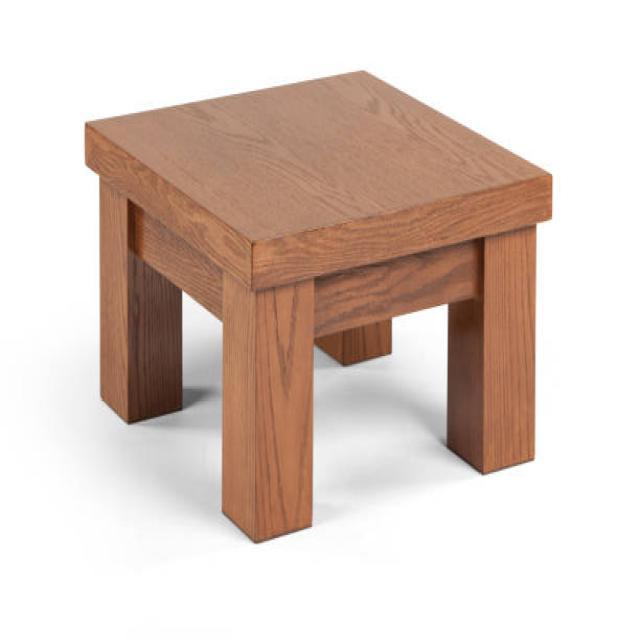table: (84, 66, 554, 543)
